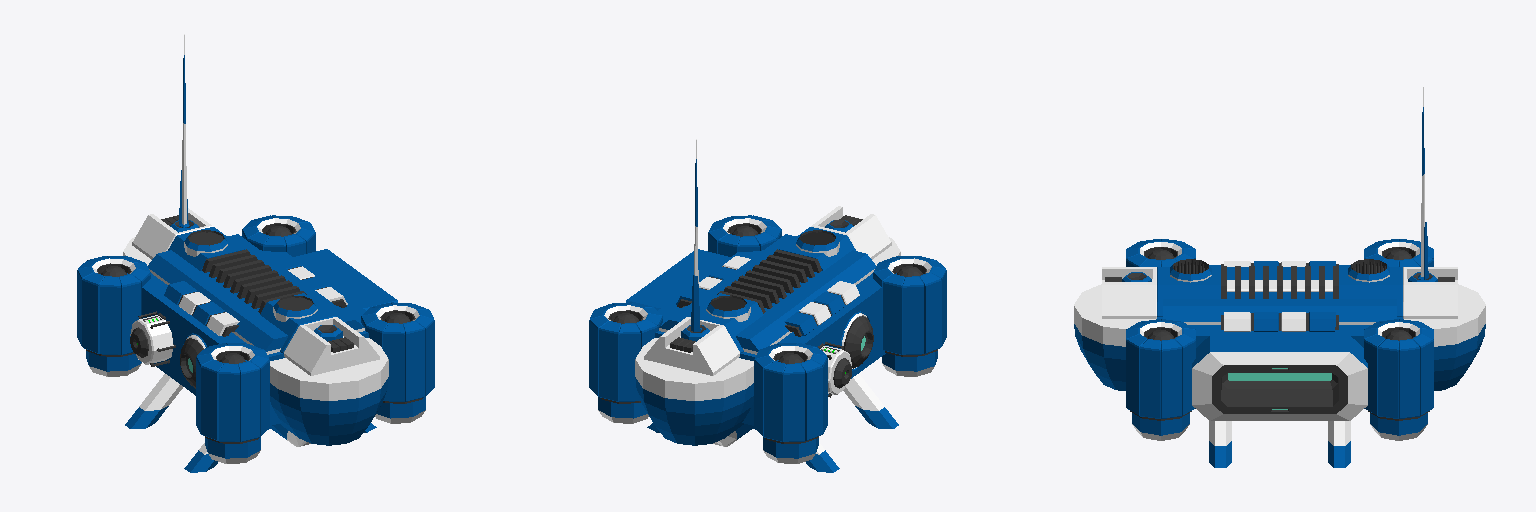
File: SpaceStation 1.obj
3 views of the same model, side by side, from view 1: azimuth 30°, elevation 25°; view 2: azimuth 150°, elevation 25°; view 3: azimuth 270°, elevation 25° (orthographic).
Parts seen in each view (by area): view 1: Hull20b_38, Core03_186, Core03_188, Core03_184, Hull18b_74, Hull19_70, Greeble05_42, Dock02a_122, Hull19_71, Dock02_43, Core03_45, Core01_163 (+10 smaller); view 2: Hull20b_35, Core03_188, Core03_186, Core03_45, Hull18b_74, Hull19_71, Greeble05_42, Dock02a_122, Hull19_70, Dock02_43, Core03_184, Rod01b_142 (+10 smaller); view 3: Dock02_43, Core03_45, Core03_184, Hull18b_74, Hull19_70, Hull19_71, Hull20b_35, Hull20b_38, Rod01b_141, Greeble05_42, Core03_186, Core03_188 (+9 smaller).
Boxes of the visible parts, <box> form: Hull20b_38: <box>270,338,388,445</box>; Core03_186: <box>196,343,269,443</box>; Core03_188: <box>77,256,150,356</box>; Core03_184: <box>361,302,434,403</box>; Hull18b_74: <box>148,234,364,354</box>; Hull19_70: <box>260,293,379,375</box>; Greeble05_42: <box>202,249,306,313</box>; Dock02a_122: <box>127,273,284,425</box>; Hull19_71: <box>132,208,244,270</box>; Dock02_43: <box>293,249,397,310</box>; Core03_45: <box>242,215,315,256</box>; Core01_163: <box>130,311,175,366</box>; Hull20b_35: <box>635,338,753,445</box>; Core03_188: <box>754,343,827,443</box>; Core03_186: <box>873,256,946,356</box>; Core03_45: <box>589,302,662,403</box>; Hull18b_74: <box>659,234,875,354</box>; Hull19_71: <box>644,293,763,375</box>; Greeble05_42: <box>717,249,821,313</box>; Dock02a_122: <box>739,273,896,425</box>; Hull19_70: <box>779,206,891,270</box>; Dock02_43: <box>626,249,730,310</box>; Core03_184: <box>708,215,781,256</box>; Rod01b_142: <box>784,281,859,336</box>; Dock02_43: <box>1192,331,1367,420</box>; Core03_45: <box>1364,319,1433,420</box>; Core03_184: <box>1126,319,1195,420</box>; Hull18b_74: <box>1163,267,1396,324</box>; Hull19_70: <box>1102,267,1220,318</box>; Hull19_71: <box>1339,267,1457,318</box>; Hull20b_35: <box>1404,284,1485,390</box>; Hull20b_38: <box>1074,284,1155,390</box>; Rod01b_141: <box>1221,312,1338,331</box>; Greeble05_42: <box>1221,266,1338,298</box>; Core03_186: <box>1126,239,1195,266</box>; Core03_188: <box>1364,239,1433,266</box>.
Size of the model in its own units: 2.22 by 3.14 by 3.47.